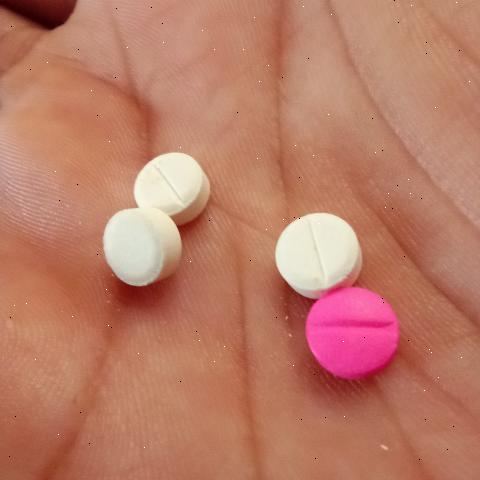Pill: (257, 193, 366, 302), (84, 197, 186, 298), (127, 131, 211, 224)
